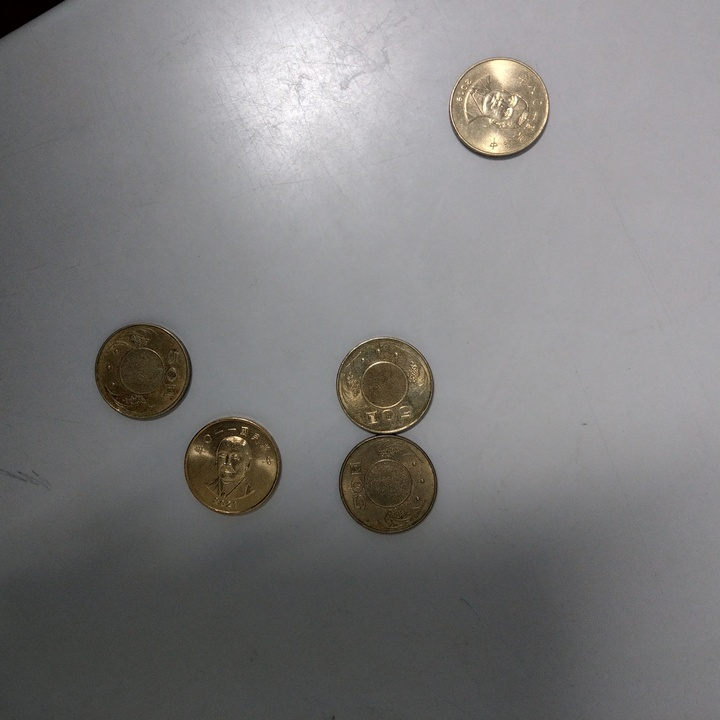50 dollar: (332, 338, 440, 436), (449, 58, 550, 159), (340, 438, 439, 537), (184, 418, 284, 516), (94, 323, 192, 422)
